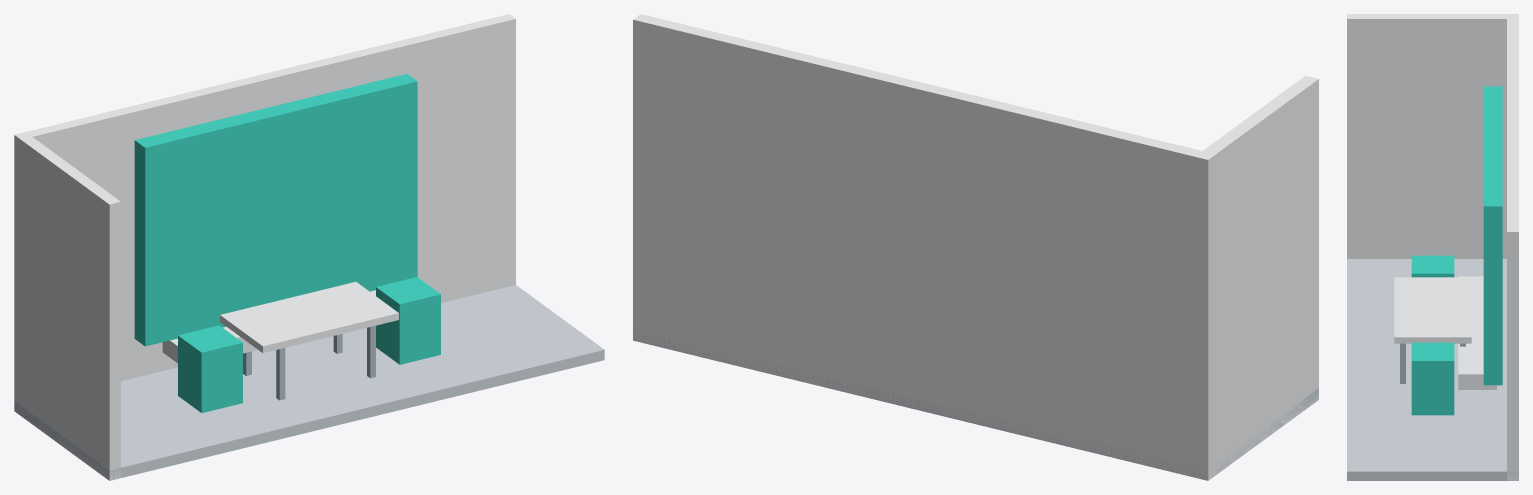
3 renders of one model, left to right at view 1: azimuth 30°, elevation 25°; view 2: azimuth 150°, elevation 25°; view 3: azimuth 270°, elevation 25°, orthographic. The views are drawn at different scales.
Parts seen in each view (by area): view 1: Exhibition Booth Concept; view 2: Exhibition Booth Concept; view 3: Exhibition Booth Concept.
Part boxes in pixels (x1,y1,x2,y2): Exhibition Booth Concept: (14, 14, 604, 480); Exhibition Booth Concept: (633, 14, 1318, 480); Exhibition Booth Concept: (1347, 14, 1518, 480).
Size of the model in its own units: 6 by 3.2 by 2.
